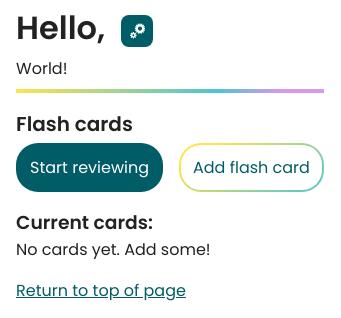
CardSetOverview › Should have an action menu with options for edit and delete
Expected: the heading "Hello," is shown, [16, 4, 105, 52]
Click the button named "options" at (137, 31), box [121, 15, 153, 47]
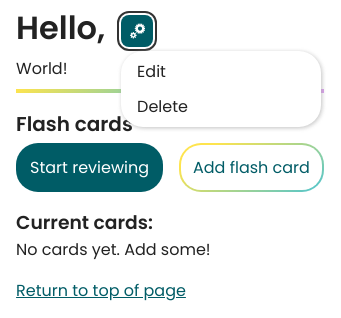
Now the menu item "Edit" is shown, box [137, 60, 166, 83]
Now the menu item "Delete" is shown, box [137, 95, 188, 118]
